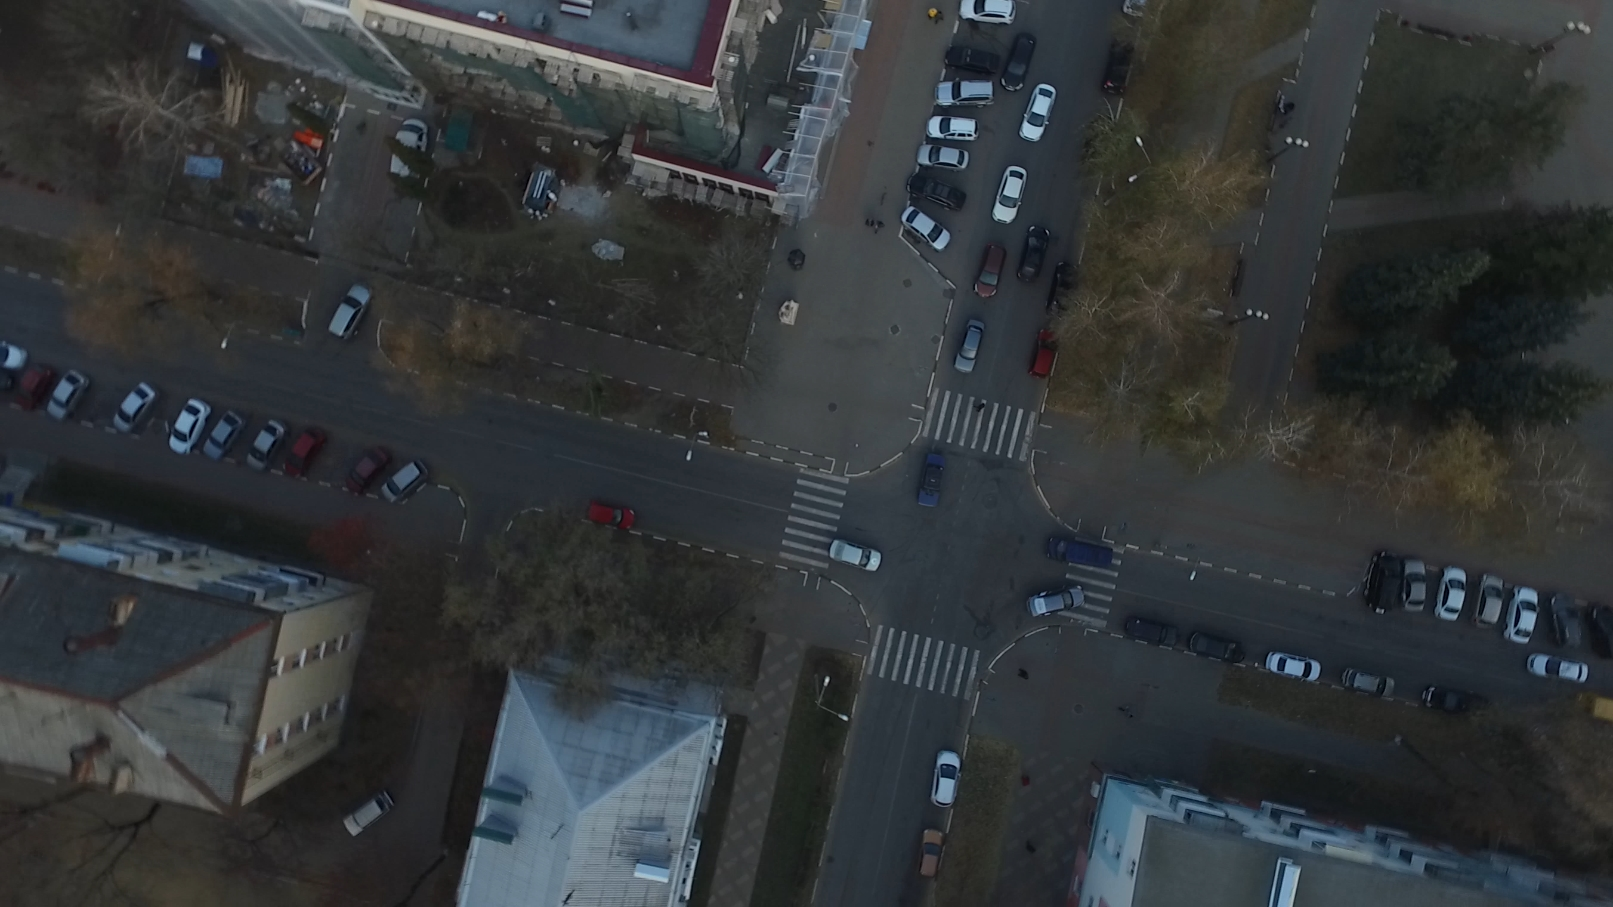car: (386, 117, 444, 178), (338, 789, 395, 838), (326, 284, 373, 342), (168, 398, 216, 456), (112, 382, 163, 433), (970, 243, 1014, 301), (1000, 33, 1044, 92), (1359, 553, 1401, 611), (1095, 37, 1134, 97), (45, 371, 94, 421), (1045, 537, 1109, 575), (901, 206, 953, 251), (1420, 682, 1493, 714), (910, 454, 953, 508), (1017, 224, 1056, 284), (380, 457, 430, 504), (345, 449, 394, 494), (992, 166, 1031, 223), (1018, 84, 1058, 140), (928, 748, 963, 812), (247, 420, 289, 472), (1042, 261, 1080, 319), (905, 174, 963, 212), (204, 412, 246, 463), (1547, 590, 1583, 648), (282, 431, 323, 481), (934, 79, 995, 112), (1525, 653, 1589, 684), (1025, 585, 1086, 617), (585, 492, 635, 530), (1502, 588, 1538, 642), (830, 542, 882, 578), (1340, 666, 1394, 701), (14, 365, 56, 409), (1122, 616, 1177, 649), (1189, 630, 1243, 663), (1432, 565, 1467, 617), (1473, 573, 1506, 628), (949, 319, 985, 368), (1399, 557, 1428, 616), (1263, 652, 1319, 682), (1026, 324, 1058, 377), (916, 142, 970, 172), (1586, 601, 1613, 660), (916, 829, 946, 879), (957, 1, 1015, 27), (945, 47, 995, 74), (926, 116, 979, 142), (1573, 686, 1613, 717), (1122, 1, 1149, 24)
